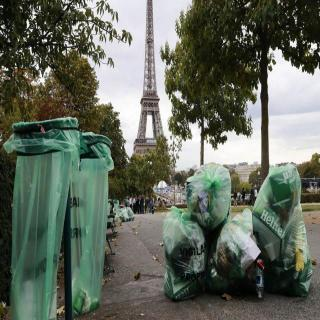Garbage: (252, 162, 314, 298), (207, 212, 265, 300), (160, 205, 210, 298), (183, 162, 237, 227)
